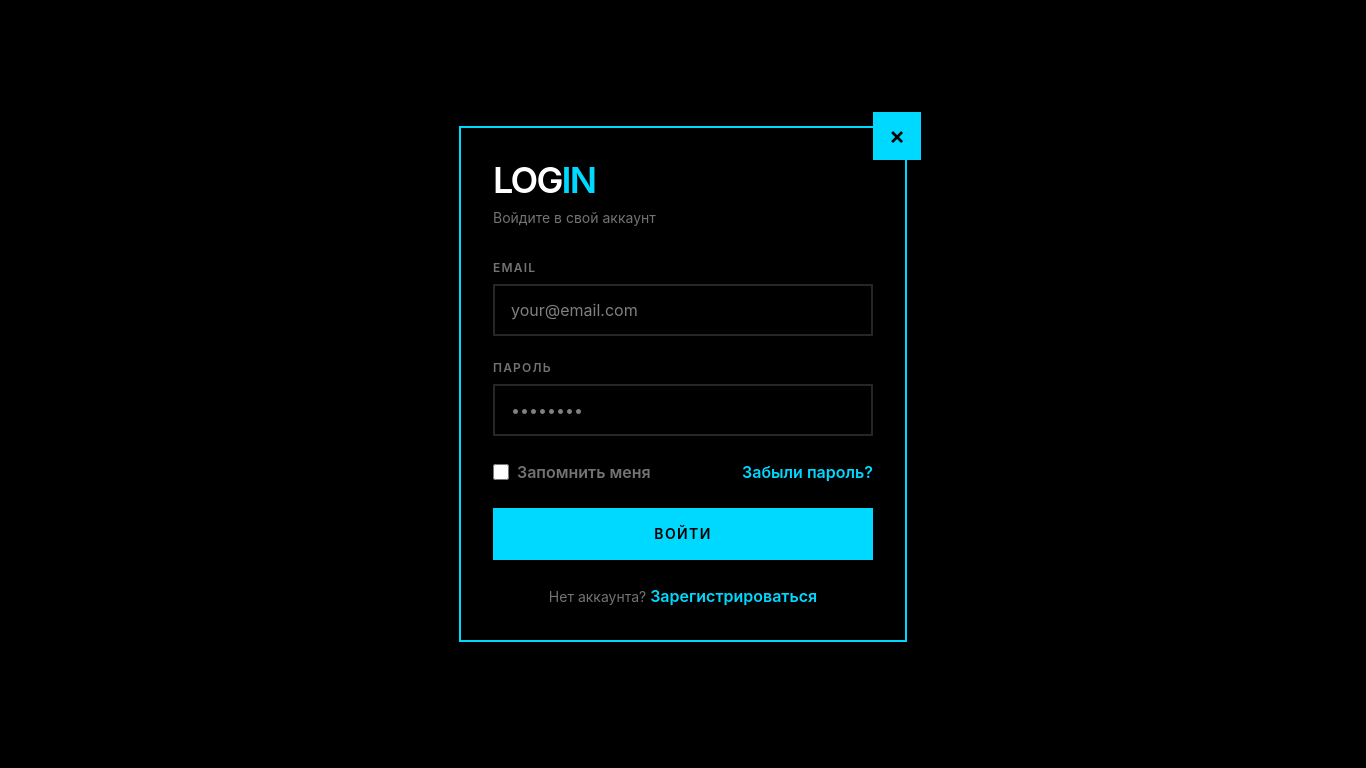
Test case: LoginModal — login flow › displays error message on auth failure
Type "bad@test.com" into the field with placeholder "your@email.com" at (683, 310), box [493,284,873,336]
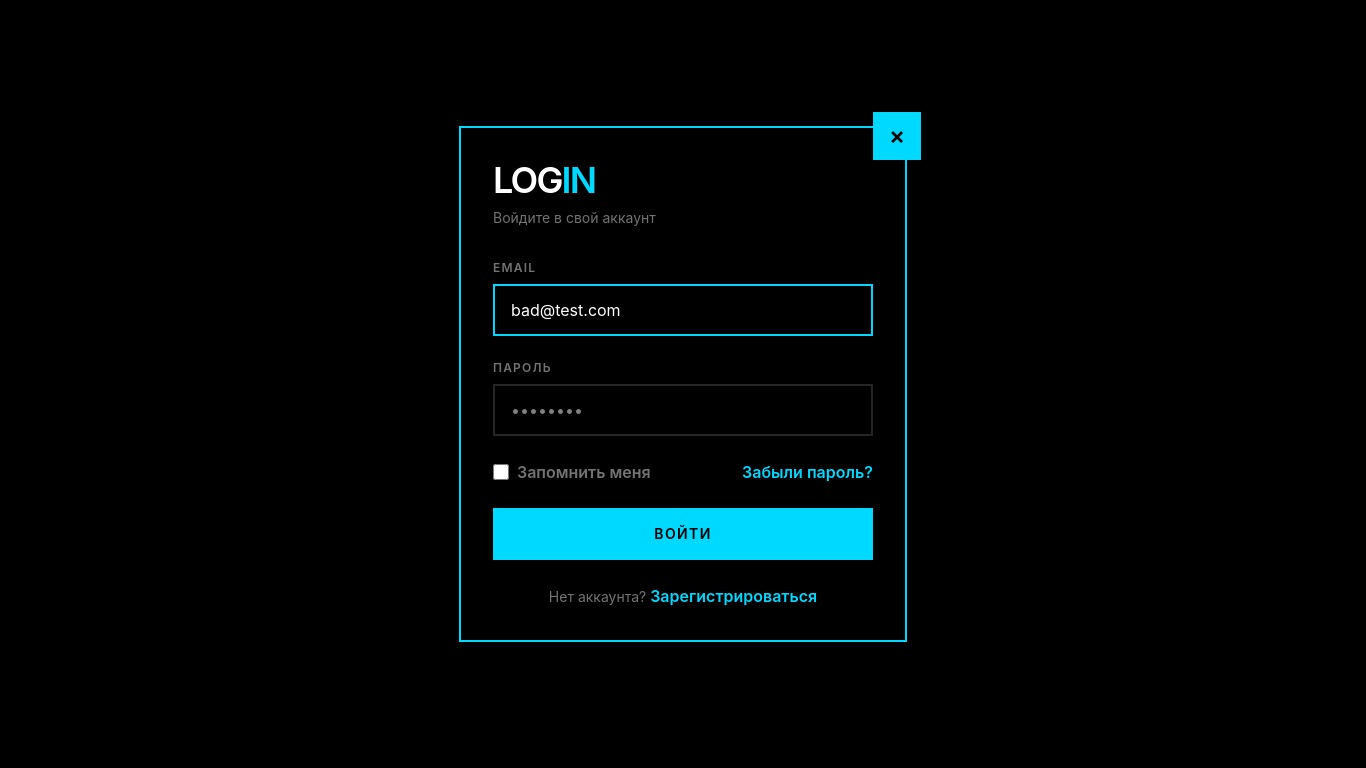
Type "wrongpass" into the password field with placeholder "••••••••" at (683, 410), box [493,384,873,436]
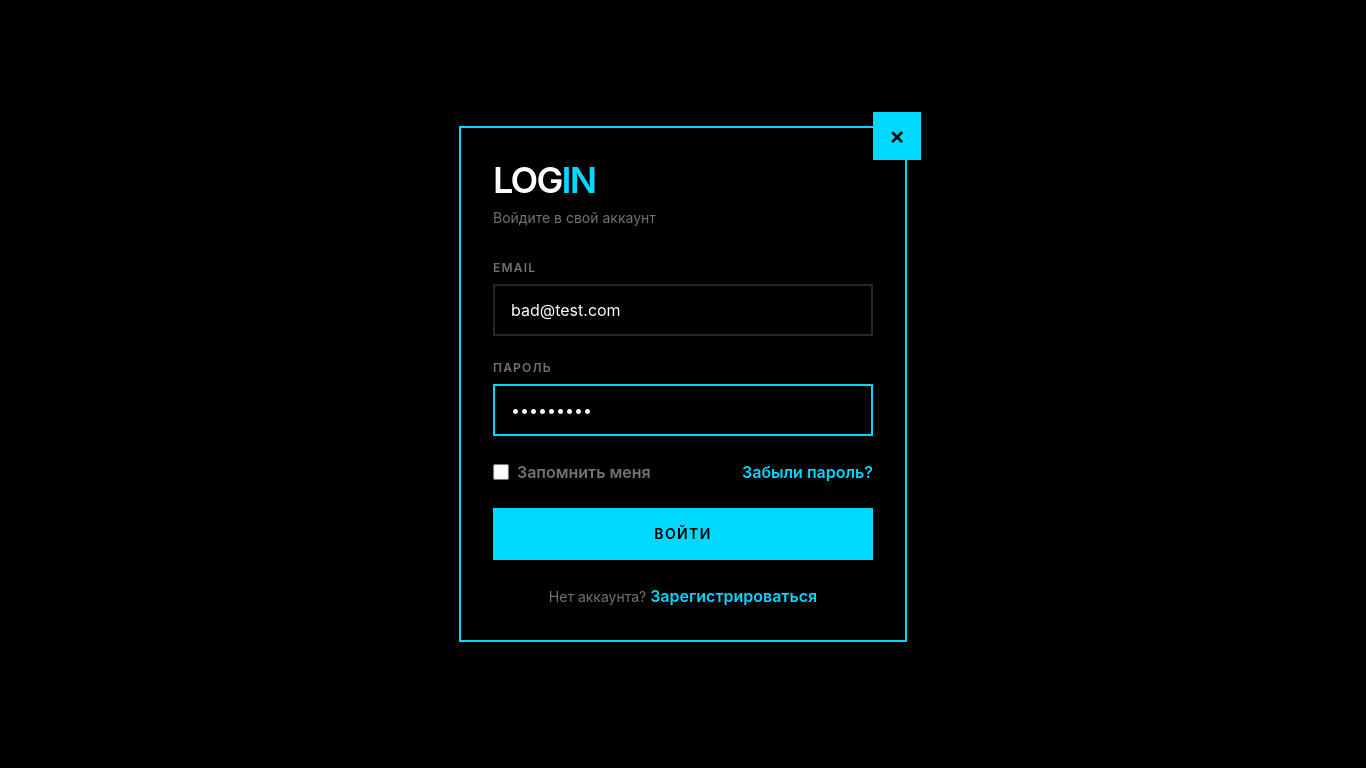
Click the button "ВОЙТИ" at (683, 534), box [493,508,873,560]
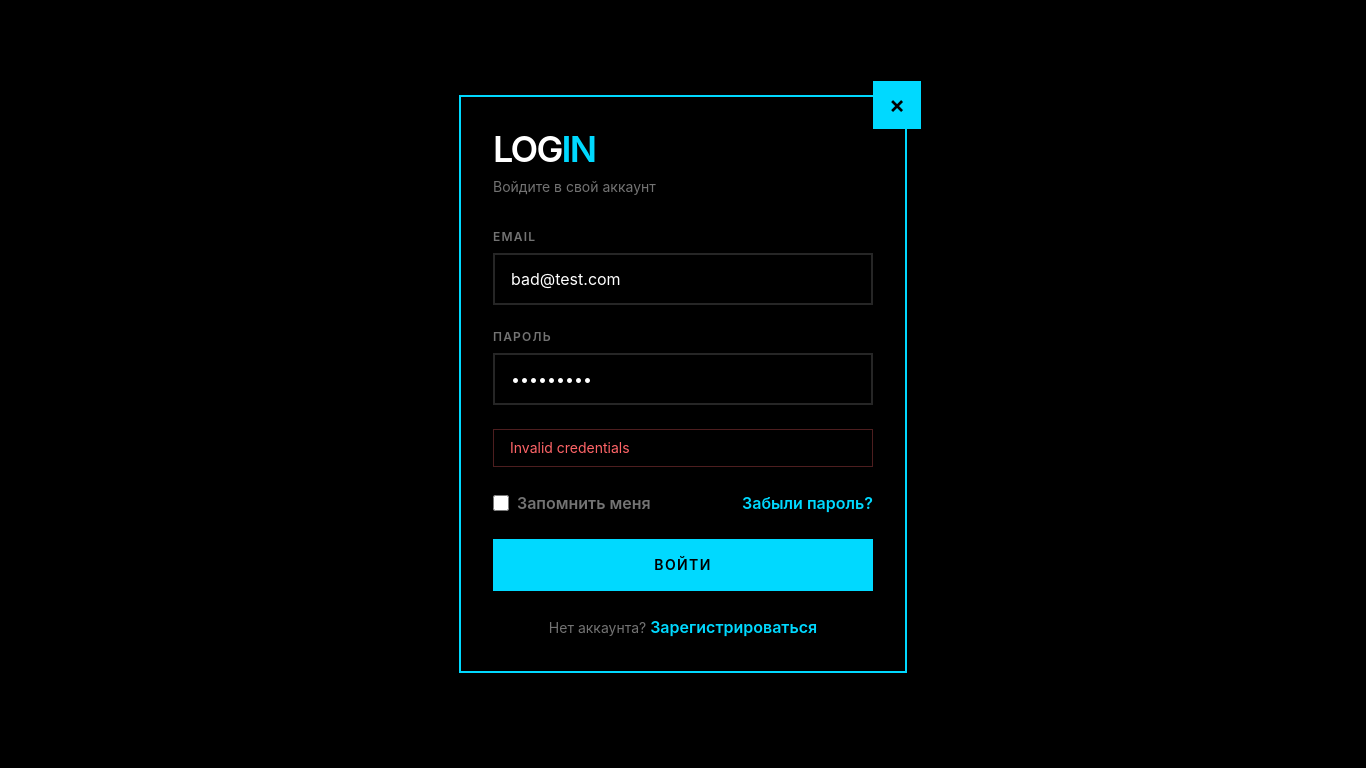
Result: the text "Invalid credentials" is shown at [493,429,873,467]
